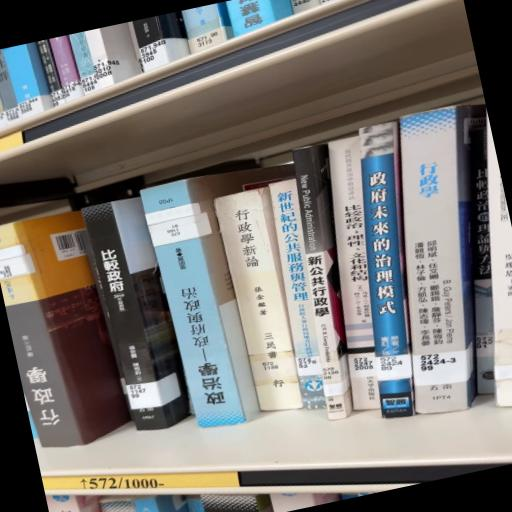reverse: (141, 166, 293, 428), (1, 212, 131, 447)
